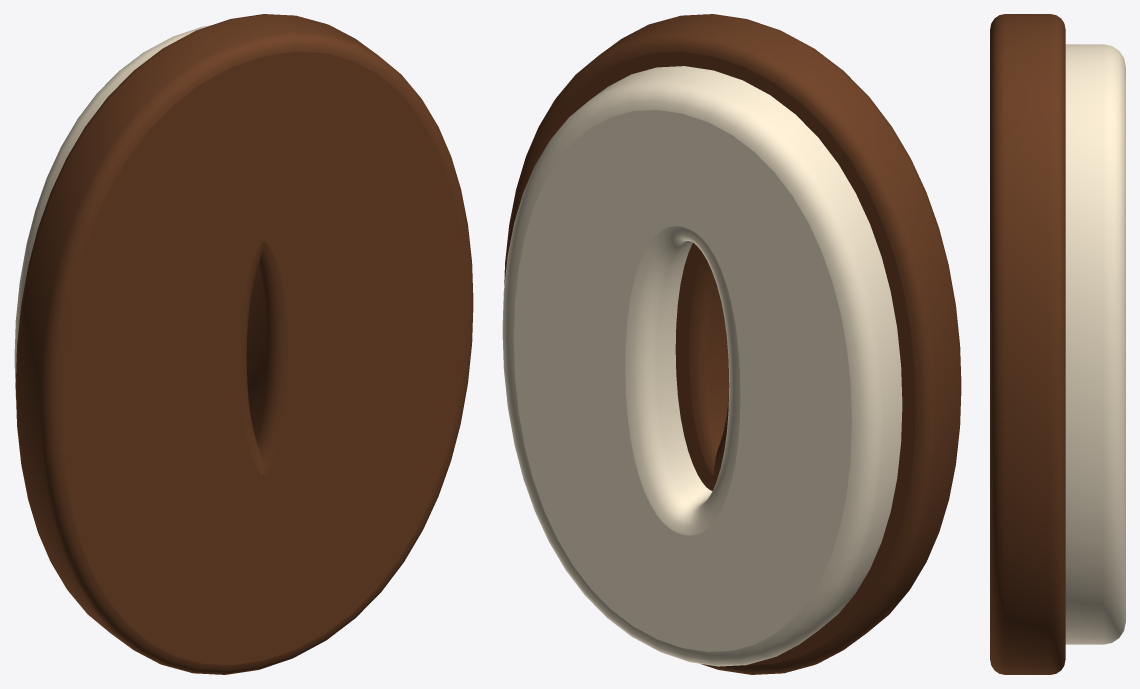
File: Digit_0.fbx
The picture shows the model from 3 angles, left to right: view 1: azimuth 30°, elevation 25°; view 2: azimuth 150°, elevation 25°; view 3: azimuth 270°, elevation 25°; orthographic projection.
Parts seen in each view (by area): view 1: Digit_0; view 2: Digit_0; view 3: Digit_0.
Boxes of the visible parts, x1=… form: Digit_0: x1=14, y1=14, x2=473, y2=674; Digit_0: x1=502, y1=14, x2=961, y2=674; Digit_0: x1=990, y1=14, x2=1125, y2=674.
Size of the model in its own units: 0.6501 by 0.9108 by 0.18.
1 material, 1 textured.
